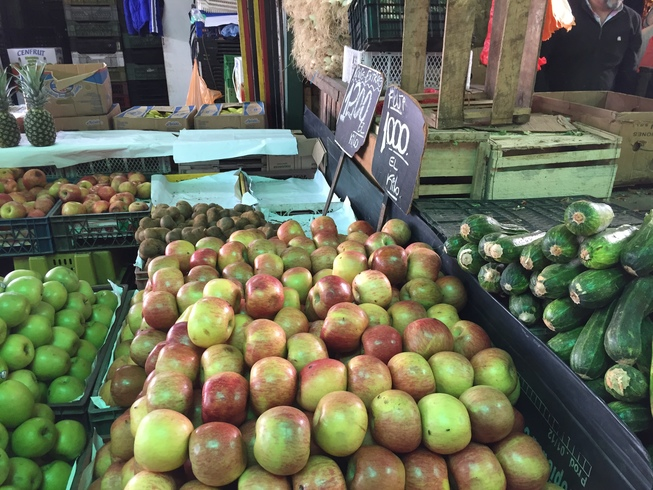precio: (358, 88, 435, 214), (324, 64, 386, 156)
